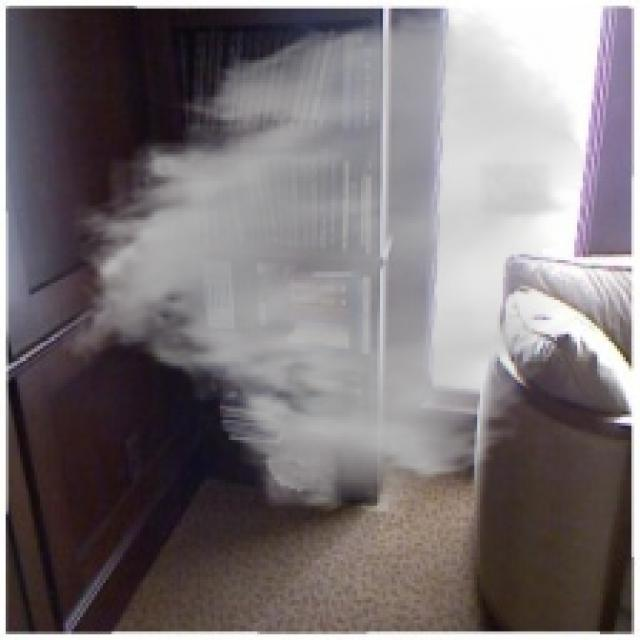smoke: (60, 3, 589, 517)
